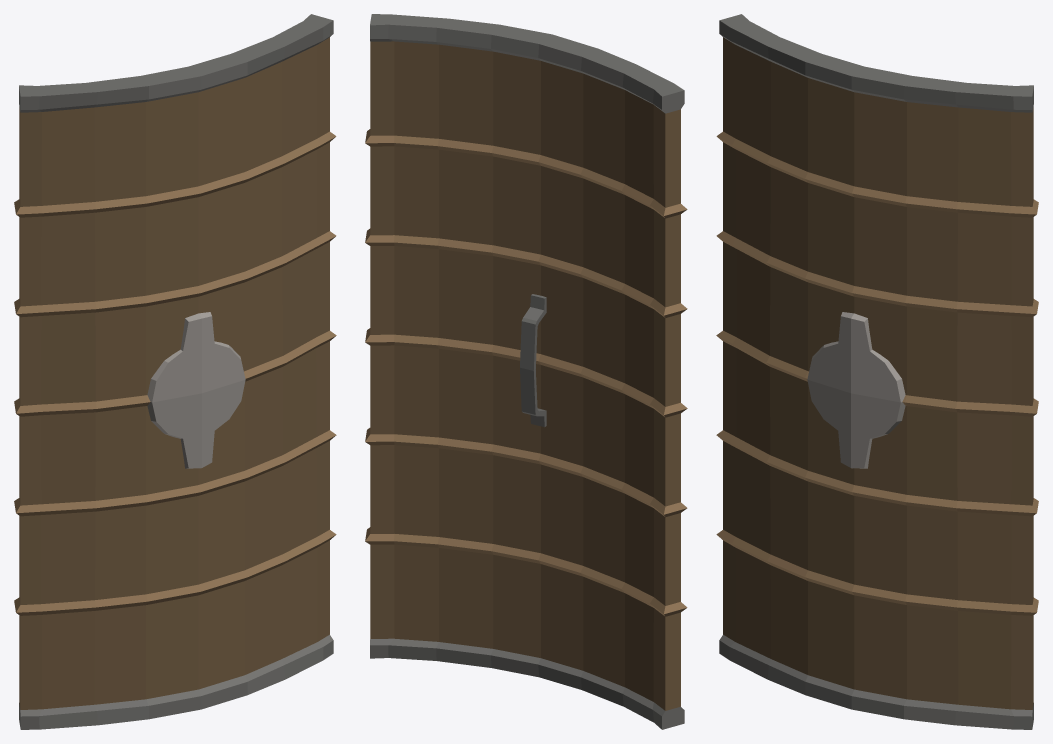
Rendered from SM_pwe_china_shield_01.fbx.
3 renders of one model, left to right at view 1: azimuth 30°, elevation 25°; view 2: azimuth 150°, elevation 25°; view 3: azimuth 330°, elevation 25°, orthographic.
Parts seen in each view (by area): view 1: SM_pwe_china_shield_01; view 2: SM_pwe_china_shield_01; view 3: SM_pwe_china_shield_01.
Part boxes in pixels (left/top/right/bottom): SM_pwe_china_shield_01: left=14, top=14, right=336, bottom=729; SM_pwe_china_shield_01: left=365, top=14, right=687, bottom=729; SM_pwe_china_shield_01: left=716, top=14, right=1038, bottom=729.
Bounding box in the file's own units: 62.36 × 118 × 12.96.
